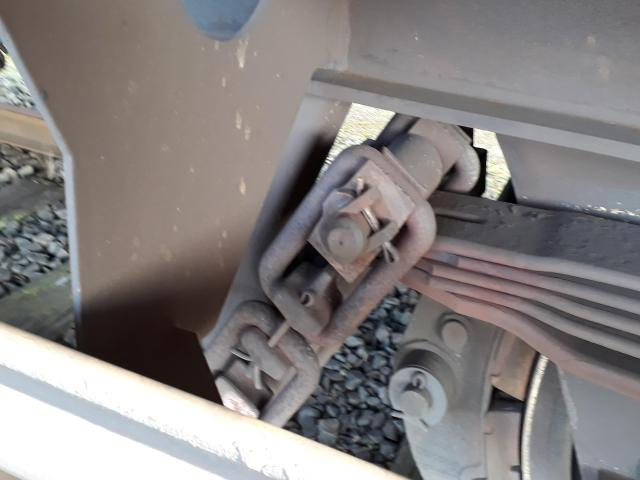blattfederww: (437, 179, 640, 378)
